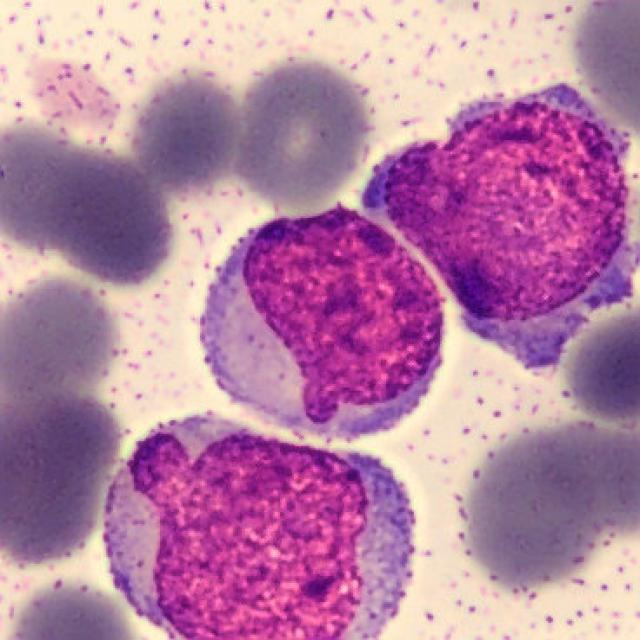Mieloblasto: (357, 83, 640, 368), (103, 424, 416, 640), (200, 204, 447, 432)
